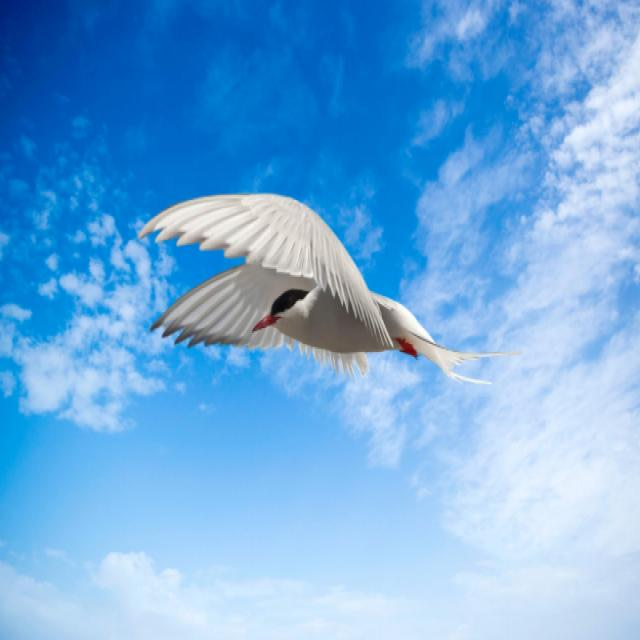birds: (136, 169, 523, 404)
